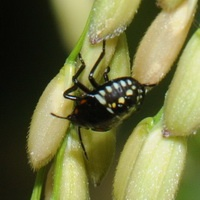insect: (51, 39, 154, 130)
